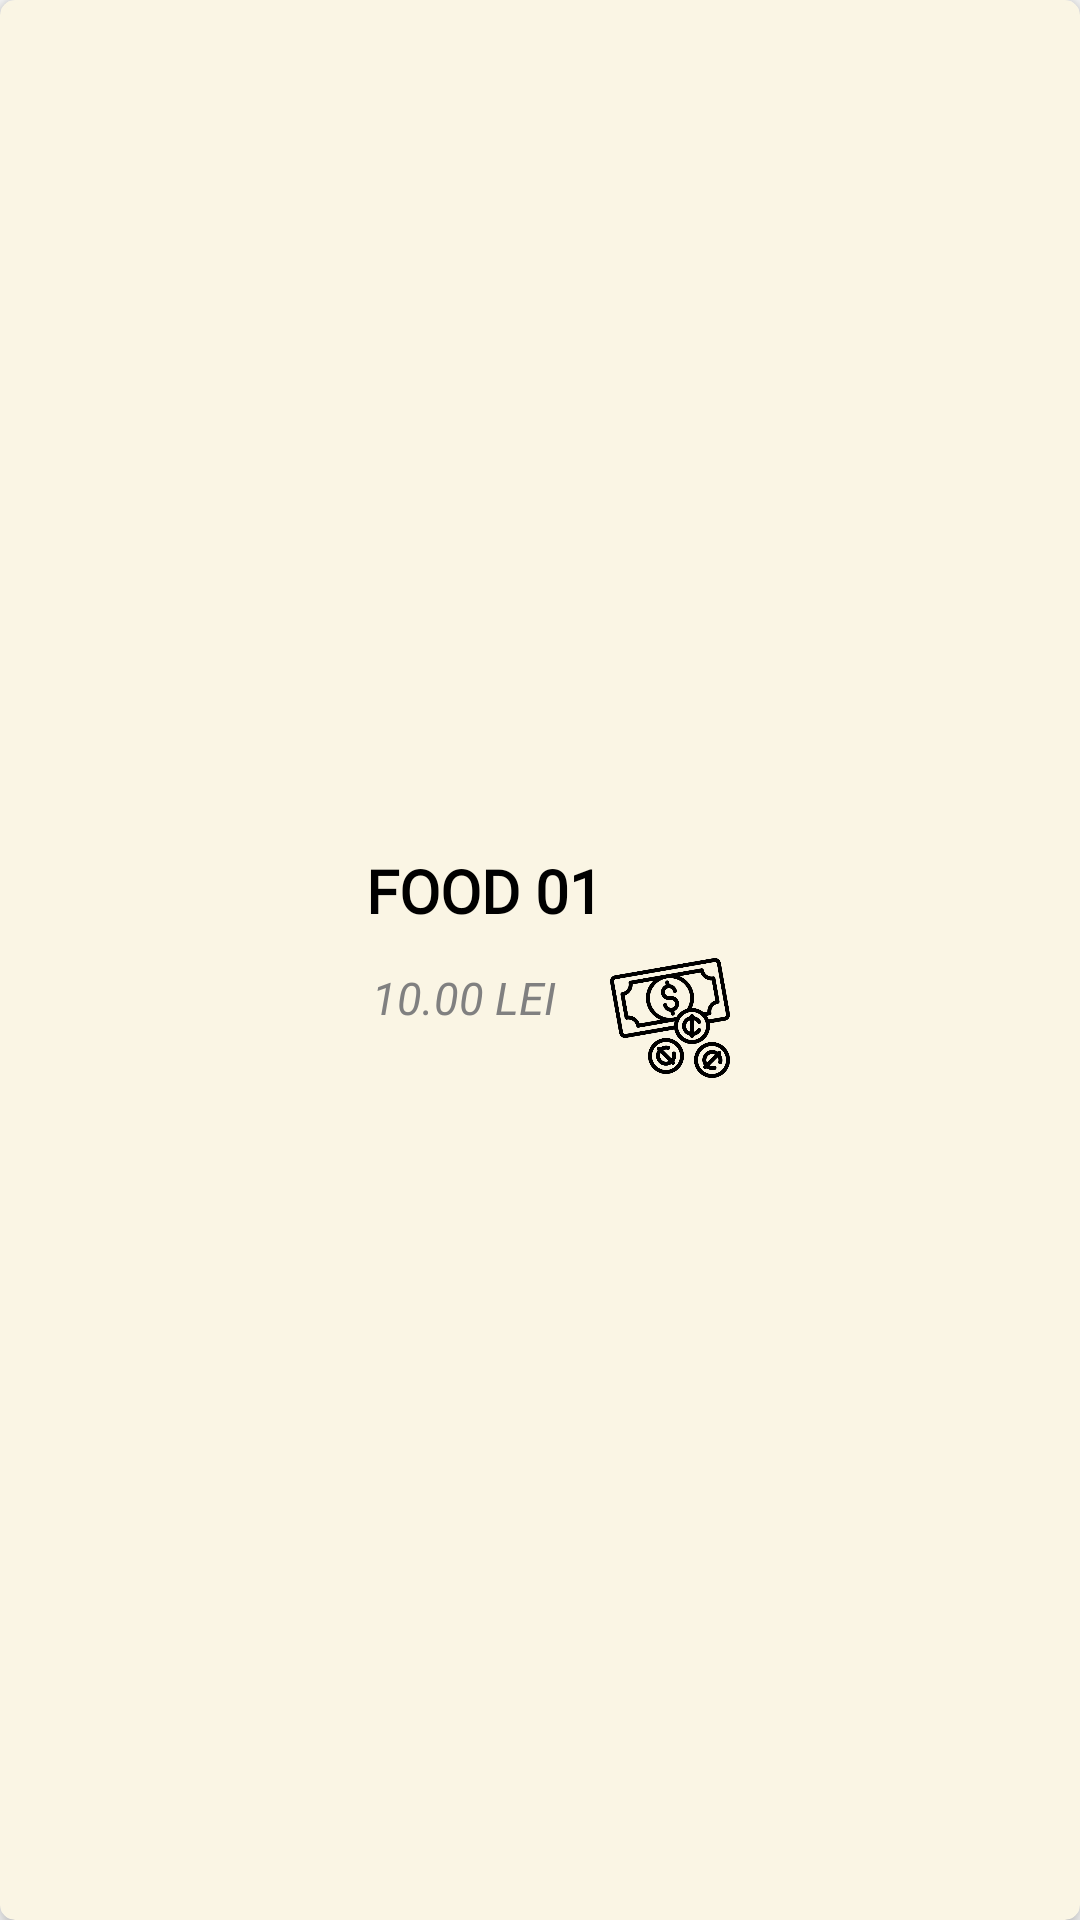

Icon click points for this 1080w x 1920h phone screenshot, format (x=x, y=y):
business: (x=670, y=1018)
